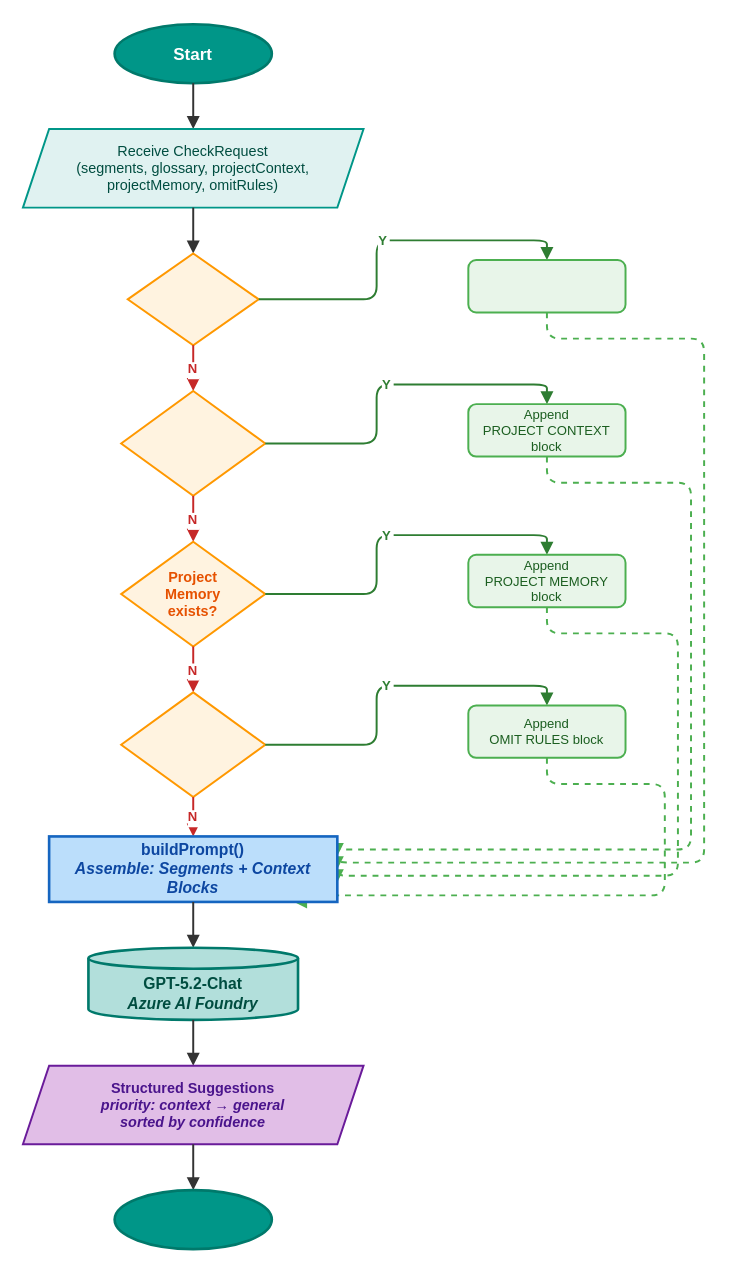
Image size: 739x1272. Some labels were removed from this diagram. The shapes that lost their labels are listed below. From the top down, each one's centre as x and y in pixels, then its label:
point 192,299: Glossary exists?
point 546,285: Append GLOSSARY block
point 193,442: Project Context exists?
point 193,744: Omit Rules exist?
point 192,1219: End
